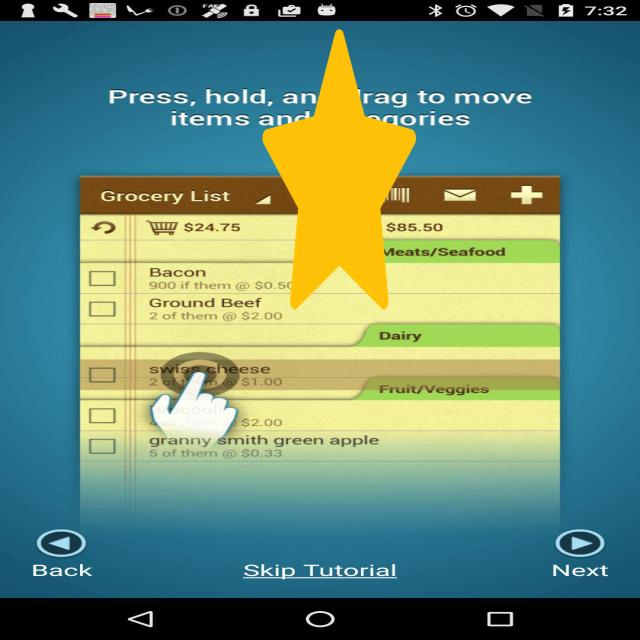forced continuity: (263, 29, 416, 310)
